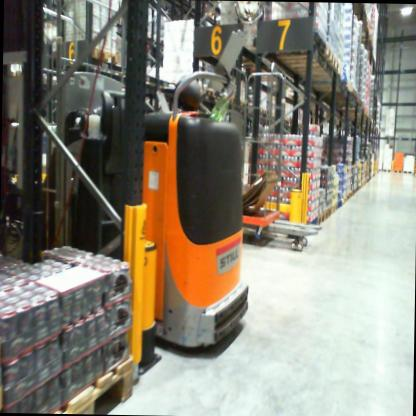pallet: (44, 348, 140, 413), (265, 41, 336, 64), (280, 53, 341, 77), (270, 32, 327, 56), (86, 40, 117, 66), (302, 211, 319, 233), (314, 207, 328, 226), (324, 202, 334, 222), (335, 196, 344, 211), (331, 200, 338, 215), (391, 167, 403, 174), (382, 167, 391, 174), (403, 168, 413, 174)
pallet_truck: (23, 27, 281, 362)
